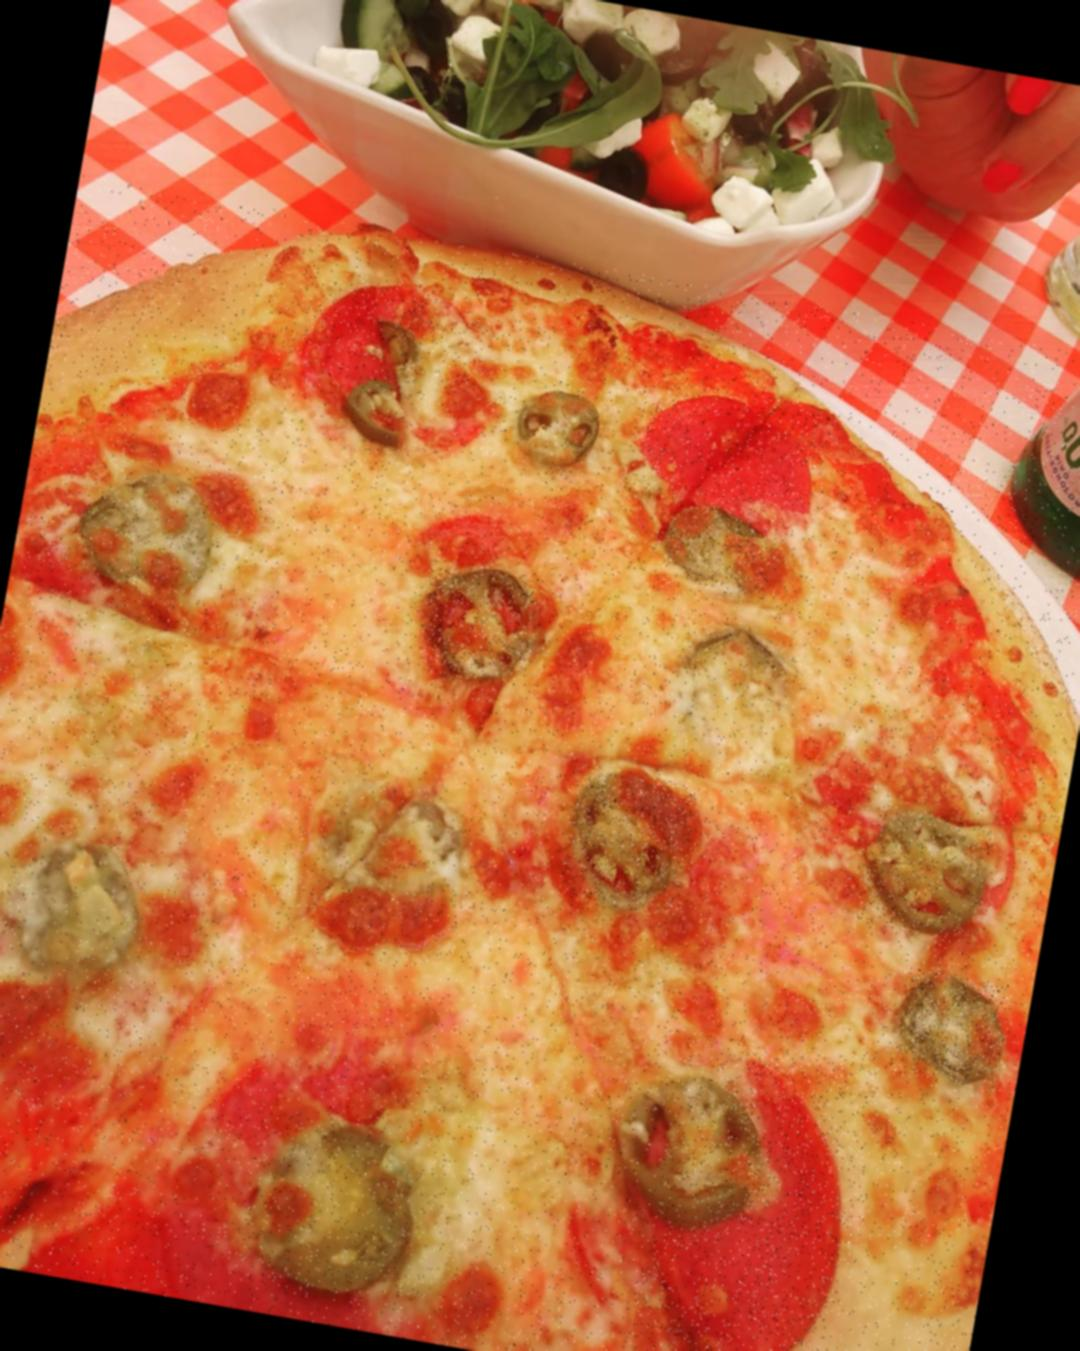Peppers: (239, 1107, 431, 1308), (605, 1064, 781, 1240), (69, 461, 226, 606), (305, 763, 472, 895), (559, 767, 696, 916), (20, 834, 153, 984), (855, 804, 996, 942), (415, 558, 544, 687), (888, 968, 1015, 1092), (660, 494, 784, 598), (343, 315, 428, 456), (674, 617, 812, 696), (511, 380, 609, 477)
Pizza: (0, 174, 1080, 1351)
Tomatoes: (624, 1031, 884, 1351), (624, 370, 842, 520), (287, 263, 493, 400)
